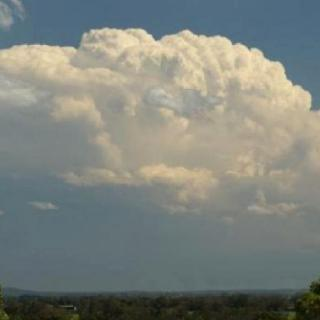Cumulonimbus: (0, 1, 320, 262)
